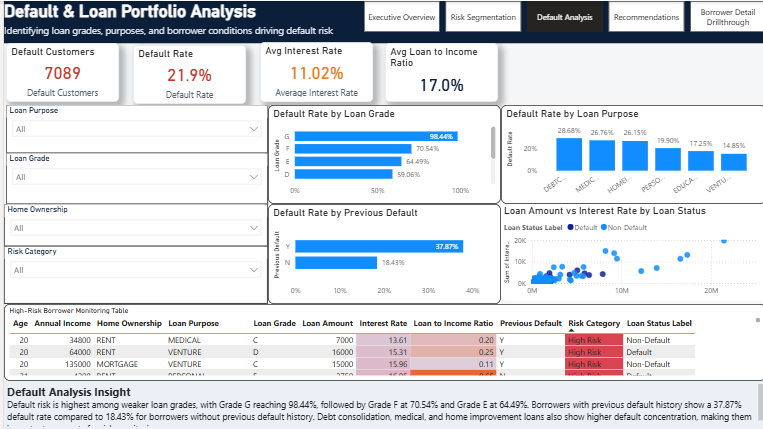

This screenshot's page, from the dashboard's own definition file:
{"tool":"powerbi","page":{"name":"Default Analysis","canvas":[1280,720],"ordinal":2},"visuals":[{"type":"shape","title":"Default & Loan Portfolio Analysis","box":[0,0,1280,70.6],"z":0},{"type":"card","title":"Avg Interest Rate","fields":{"Values":["Credit Risk.Average Interest Rate"]},"box":[430,68.9,189.8,100.8],"z":1000},{"type":"card","title":"Default Customers","fields":{"Values":["Credit Risk.Default Customers"]},"box":[3.4,70.6,189.8,99.1],"z":2000},{"type":"card","title":"Default Rate","fields":{"Values":["Credit Risk.Default Rate"]},"box":[216.7,73.9,189.8,99.1],"z":3000},{"type":"card","title":"Avg Loan to Income Ratio","fields":{"Values":["Credit Risk.Average Loan to Income Ratio"]},"box":[640,70.6,189.8,99.1],"z":4000},{"type":"slicer","title":"Loan Purpose","fields":{"Values":["Credit Risk.Loan Purpose"]},"box":[3.4,174.7,440.1,80.6],"z":5000},{"type":"slicer","title":"Loan Grade","fields":{"Values":["Credit Risk.Loan Grade"]},"box":[3.4,255.3,440.1,85.7],"z":6000},{"type":"slicer","title":"Risk Category","fields":{"Values":["Credit Risk.Risk Category"]},"box":[0,411.5,443.5,97.4],"z":7000},{"type":"slicer","title":"Home Ownership","fields":{"Values":["Credit Risk.Home Ownership"]},"box":[0,341,443.5,70.6],"z":8000},{"type":"clusteredBarChart","title":"Default Rate by Loan Grade","fields":{"Category":["Credit Risk.Loan Grade"],"Y":["Credit Risk.Default Rate"]},"box":[443.5,174.7,391.4,166.3],"z":9000},{"type":"clusteredColumnChart","title":"Default Rate by Loan Purpose","fields":{"Category":["Credit Risk.Loan Purpose"],"Y":["Credit Risk.Default Rate"]},"box":[834.9,174.7,445.1,166.3],"z":10000},{"type":"clusteredBarChart","fields":{"Category":["Credit Risk.Previous Default"],"Y":["Credit Risk.Default Rate"]},"box":[443.5,341,391.4,168],"z":11000},{"type":"scatterChart","title":"Loan Amount vs Interest Rate by Loan Status","fields":{"X":["Sum(Credit Risk.Loan Amount)"],"Y":["Sum(Credit Risk.Interest Rate)"],"Series":["Credit Risk.Loan Status Label"],"Category":["Credit Risk.Loan Amount"]},"box":[834.9,341,445.1,162.9],"z":12000},{"type":"tableEx","title":"High-Risk Borrower Monitoring Table","fields":{"Values":["Credit Risk.Age","Credit Risk.Annual Income","Credit Risk.Home Ownership","Credit Risk.Loan Purpose","Credit Risk.Loan Grade","Credit Risk.Loan Amount","Credit Risk.Interest Rate","Credit Risk.Loan to Income Ratio","Credit Risk.Previous Default","Credit Risk.Risk Category","Credit Risk.Loan Status Label"]},"box":[0,509,1280,129.3],"z":13000},{"type":"textbox","box":[0,638.3,1280,82.3],"z":14000},{"type":"pageNavigator","box":[604.7,0,675.3,52.1],"z":15000}]}

Visuals, with their boxes in screenshot pixels (x1, y1, x2, y2), scaled from the page's 1280x720 canvas onto the 763x429 screenshot:
"Default & Loan Portfolio Analysis" shape: locate(0, 0, 762, 42)
"Avg Interest Rate" card: locate(256, 41, 369, 101)
"Default Customers" card: locate(2, 42, 115, 101)
"Default Rate" card: locate(129, 44, 242, 103)
"Avg Loan to Income Ratio" card: locate(382, 42, 495, 101)
"Loan Purpose" slicer: locate(2, 104, 264, 152)
"Loan Grade" slicer: locate(2, 152, 264, 203)
"Risk Category" slicer: locate(0, 245, 264, 303)
"Home Ownership" slicer: locate(0, 203, 264, 245)
"Default Rate by Loan Grade" clusteredBarChart: locate(264, 104, 498, 203)
"Default Rate by Loan Purpose" clusteredColumnChart: locate(498, 104, 762, 203)
clusteredBarChart - Credit Risk.Previous Default x Credit Risk.Default Rate: locate(264, 203, 498, 303)
"Loan Amount vs Interest Rate by Loan Status" scatterChart: locate(498, 203, 762, 300)
"High-Risk Borrower Monitoring Table" tableEx: locate(0, 303, 762, 380)
textbox: locate(0, 380, 762, 428)
pageNavigator: locate(360, 0, 762, 31)
